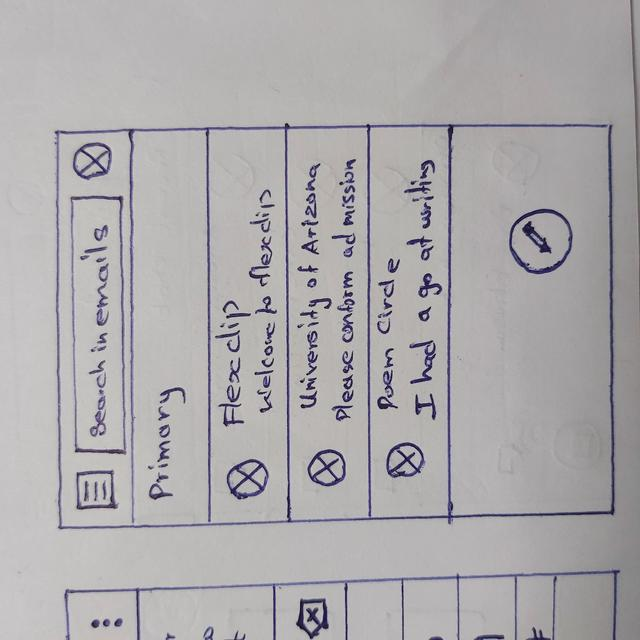ActionButton: (57, 138, 132, 190)
AppBar: (55, 130, 135, 532)
DrawerToggleButton: (76, 471, 114, 508)
EditText: (70, 198, 125, 454)
Fab: (509, 208, 574, 275)
Image: (226, 458, 270, 498), (71, 143, 113, 182), (307, 448, 346, 489), (385, 443, 424, 479)
Layout: (207, 129, 292, 520), (287, 126, 370, 518), (369, 124, 451, 518)
ListView: (207, 127, 451, 520)
MainLayout: (53, 127, 615, 516)
TextView: (411, 160, 440, 424), (254, 188, 279, 413), (338, 159, 357, 424), (300, 163, 319, 410), (374, 258, 400, 410), (216, 300, 247, 426), (152, 388, 175, 501)
VerticalListView: (207, 129, 453, 521)
